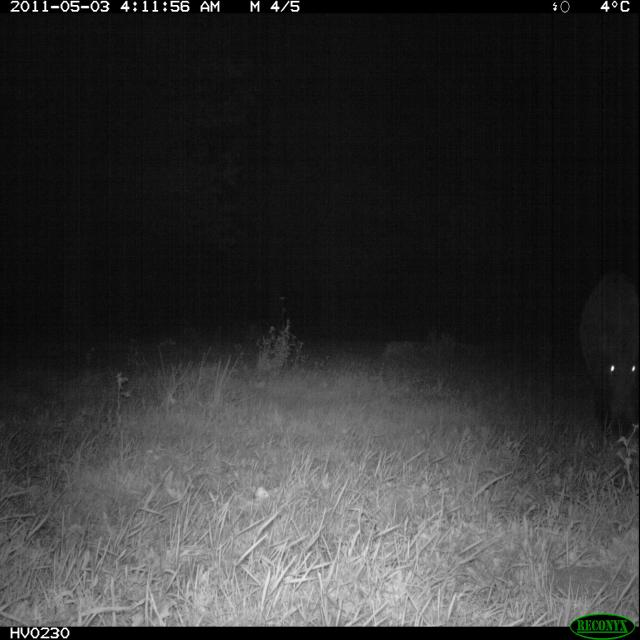boar: (561, 244, 640, 454)
